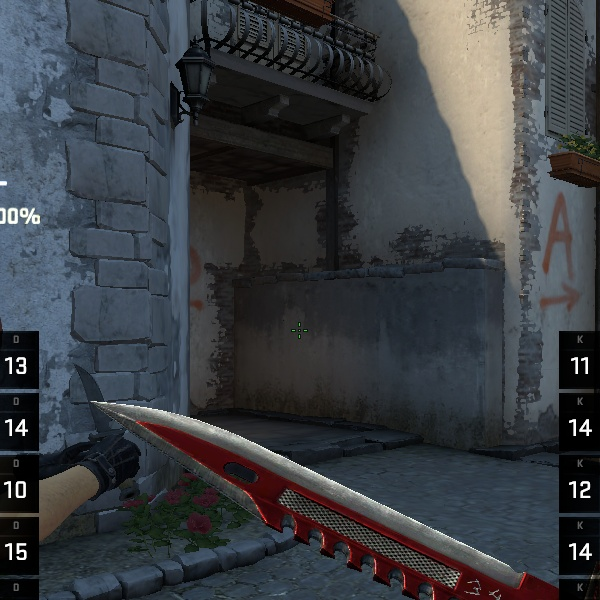ct_head: (170, 1, 482, 258)
